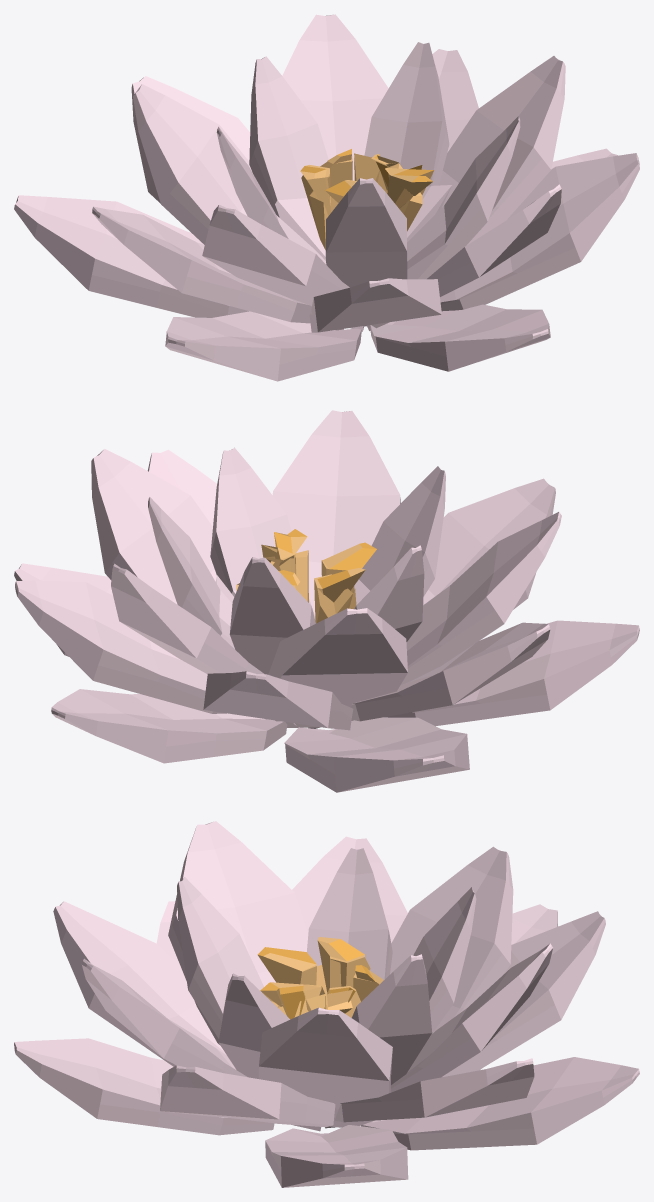
File: WaterLily.fbx
3 renders of one model, top to bottom at view 1: azimuth 30°, elevation 25°; view 2: azimuth 150°, elevation 25°; view 3: azimuth 270°, elevation 25°, orthographic. The views are drawn at different scales.
Parts seen in each view (by area): view 1: Cube; view 2: Cube; view 3: Cube.
Boxes of the visible parts, bbox=[...] form: Cube: bbox=[14, 14, 639, 381]; Cube: bbox=[14, 410, 639, 792]; Cube: bbox=[14, 821, 639, 1187].
Size of the model in its own units: 869 by 353 by 870.
Materials: 1 (1 with a texture image).
